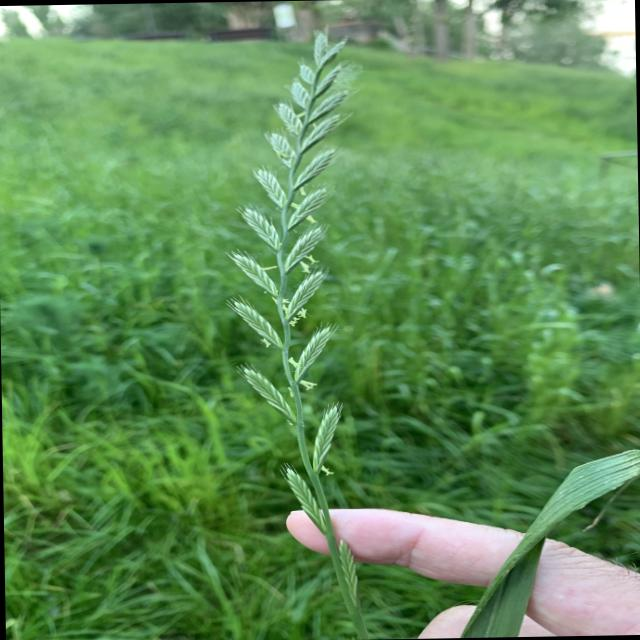Lolium: (217, 27, 376, 638)
